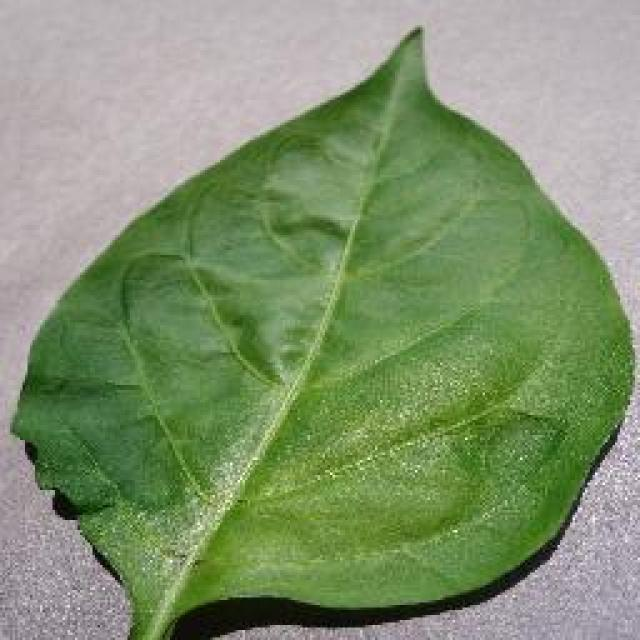Chilli_Healthy: (8, 22, 638, 638)
